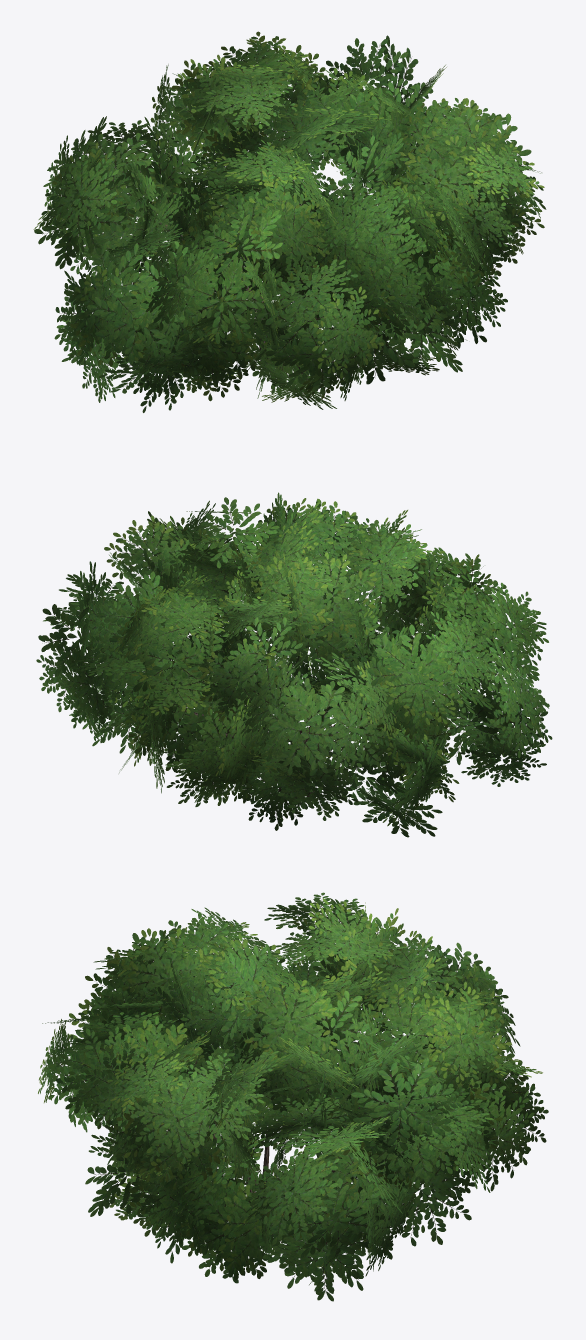
File: meadow_bush02.glb
3 renders of one model, top to bottom at view 1: azimuth 30°, elevation 25°; view 2: azimuth 150°, elevation 25°; view 3: azimuth 270°, elevation 25°, orthographic. The views are drawn at different scales.
Visible parts, largest first — view 1: meadow_bush02; view 2: meadow_bush02; view 3: meadow_bush02.
Boxes of the visible parts, x1,y1,x2,y2 form: meadow_bush02: (33,31,546,412); meadow_bush02: (36,492,552,837); meadow_bush02: (38,892,548,1301).
Size of the model in its own units: 1.92 by 1.09 by 1.68.
2 materials, 2 textured.
